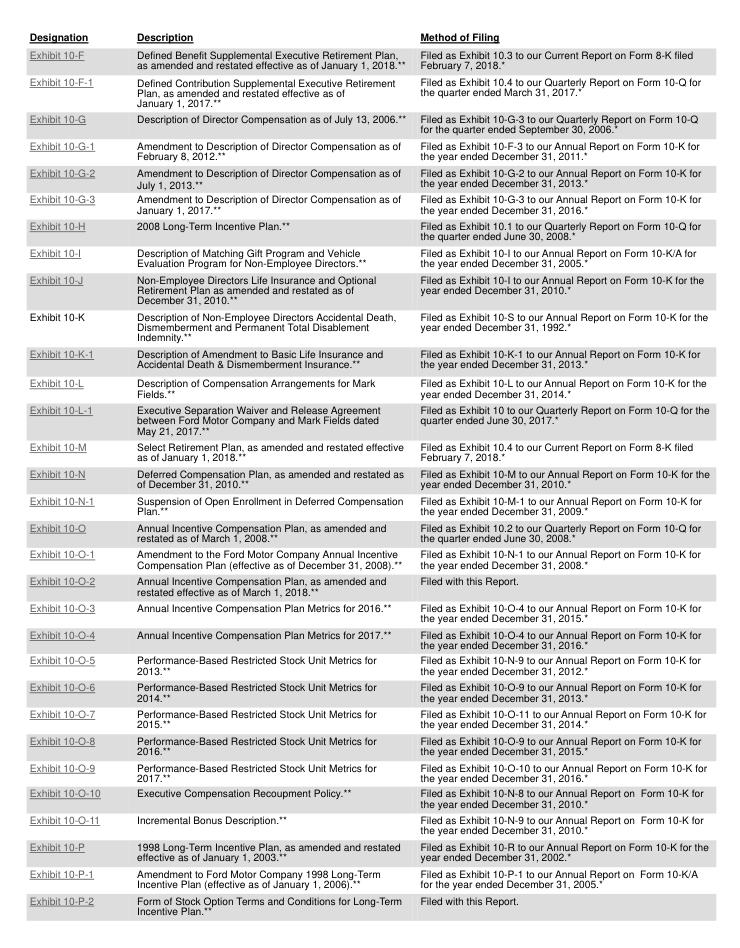table: (28, 29, 708, 916)
table column: (412, 29, 708, 916), (117, 29, 412, 916), (28, 29, 117, 916)
table column header: (28, 29, 708, 45)
table row: (28, 72, 708, 110), (28, 270, 708, 307), (28, 307, 708, 344), (28, 400, 708, 437), (28, 163, 708, 191), (28, 344, 708, 372), (28, 372, 708, 400), (28, 45, 708, 72), (28, 136, 708, 163), (28, 216, 708, 243), (28, 243, 708, 270), (28, 437, 708, 464), (28, 464, 708, 491), (28, 491, 708, 518), (28, 518, 708, 545), (28, 545, 708, 572), (28, 598, 708, 625), (28, 651, 708, 678), (28, 704, 708, 731), (28, 731, 708, 758), (28, 810, 708, 837), (28, 837, 708, 864), (28, 864, 708, 891), (28, 110, 708, 136), (28, 572, 708, 598), (28, 625, 708, 651), (28, 678, 708, 704), (28, 758, 708, 784), (28, 784, 708, 810), (28, 191, 708, 216), (28, 891, 708, 916), (28, 29, 708, 45)
